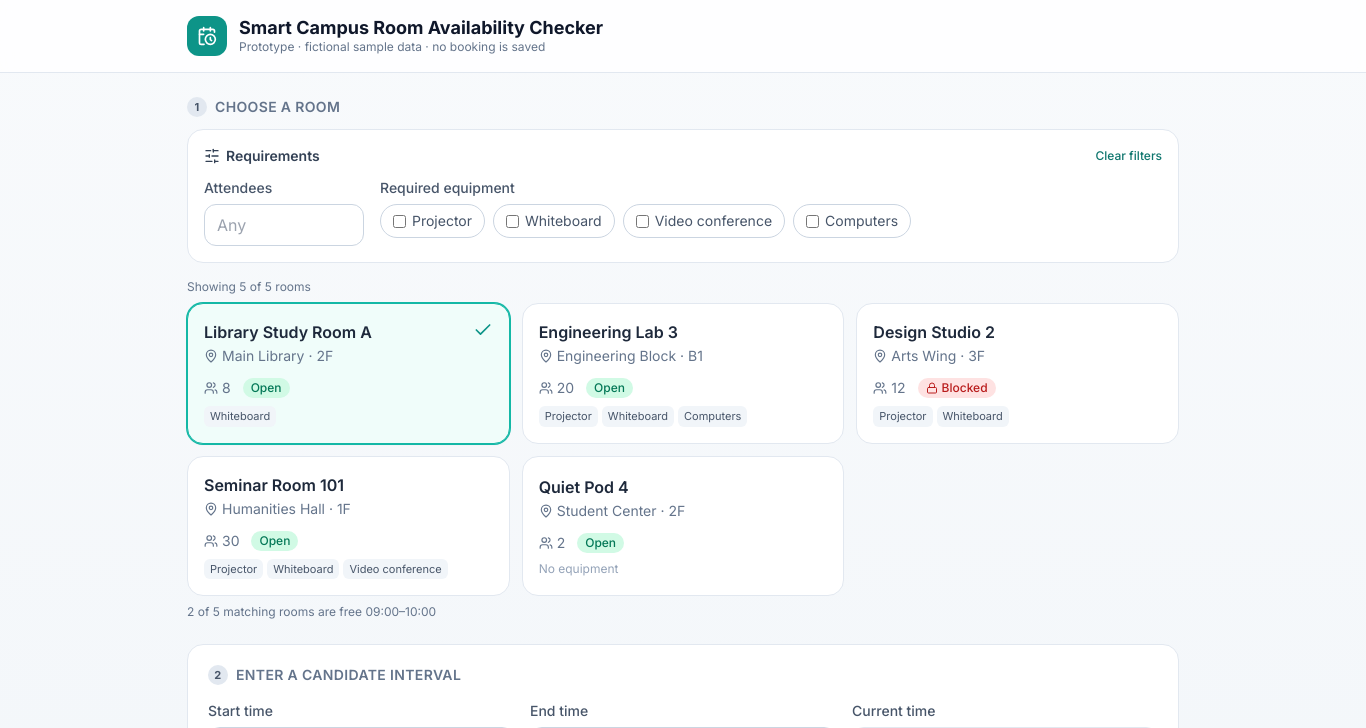
UI integration (React + jsdom) › shows an inline message for invalid attendee input
Type "0" into the number field labelled "Attendees" at (284, 225), box [204,204,364,246]
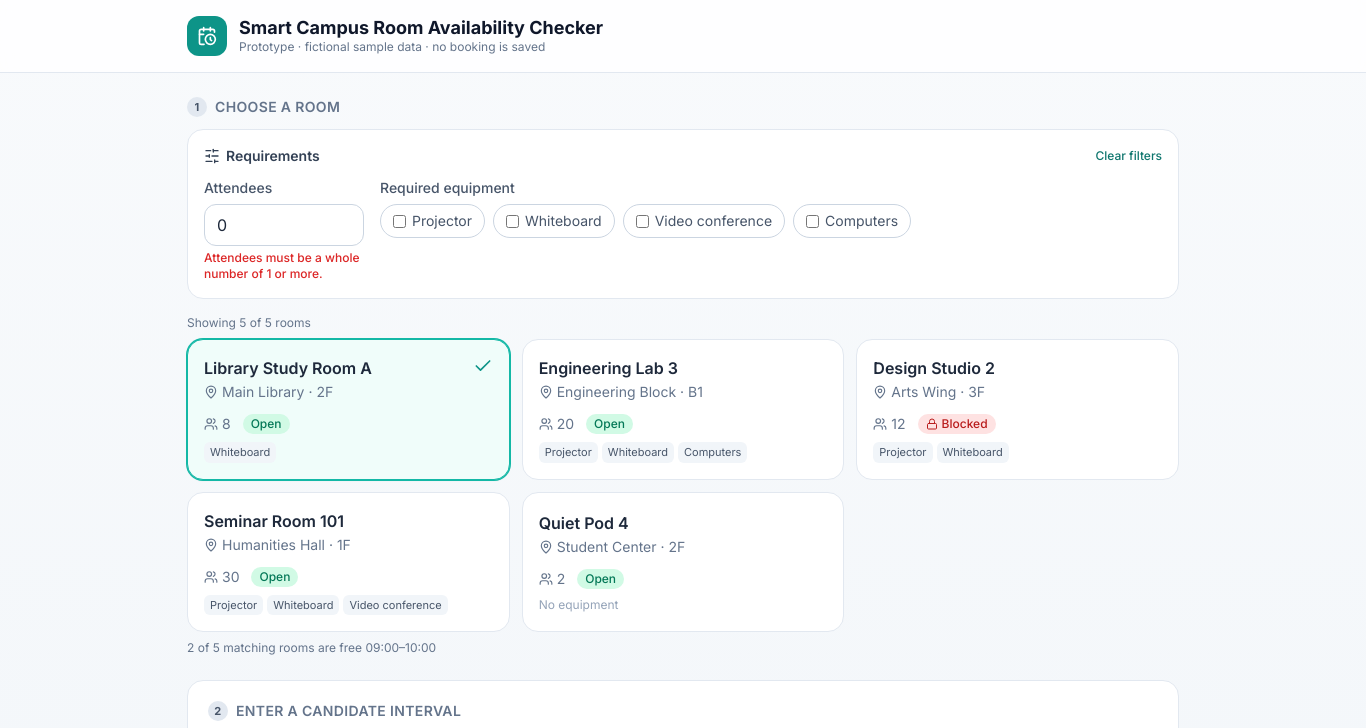
Now the message shows "whole number of 1 or more", box [204,250,360,281]
